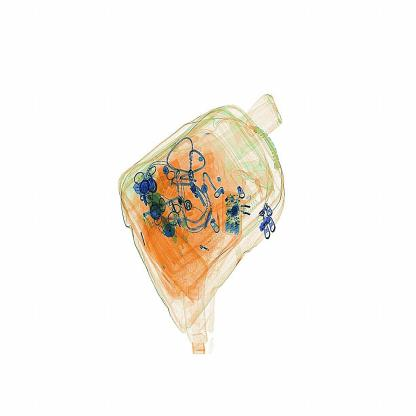wrench: (200, 195, 223, 236)
